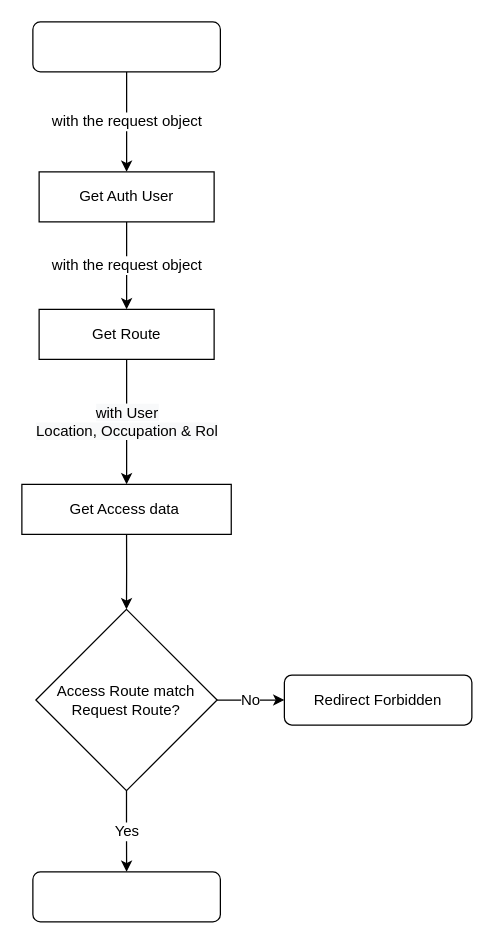
Some shapes in this 494 by 944 pixel diagram are drawn without their labels. The shapes that lost their labels are listed below. From the top down, each one's box as (x1, y1, x2, y2) in pixels, then its label:
(32, 21, 220, 72): Start
(32, 871, 220, 922): Request continues middleware chain
